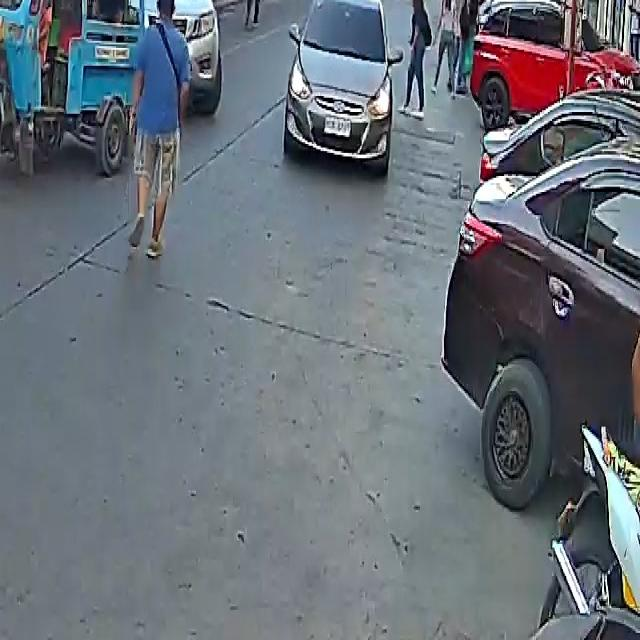car: (446, 81, 640, 523), (469, 0, 639, 132), (284, 0, 401, 169), (115, 0, 221, 112)
